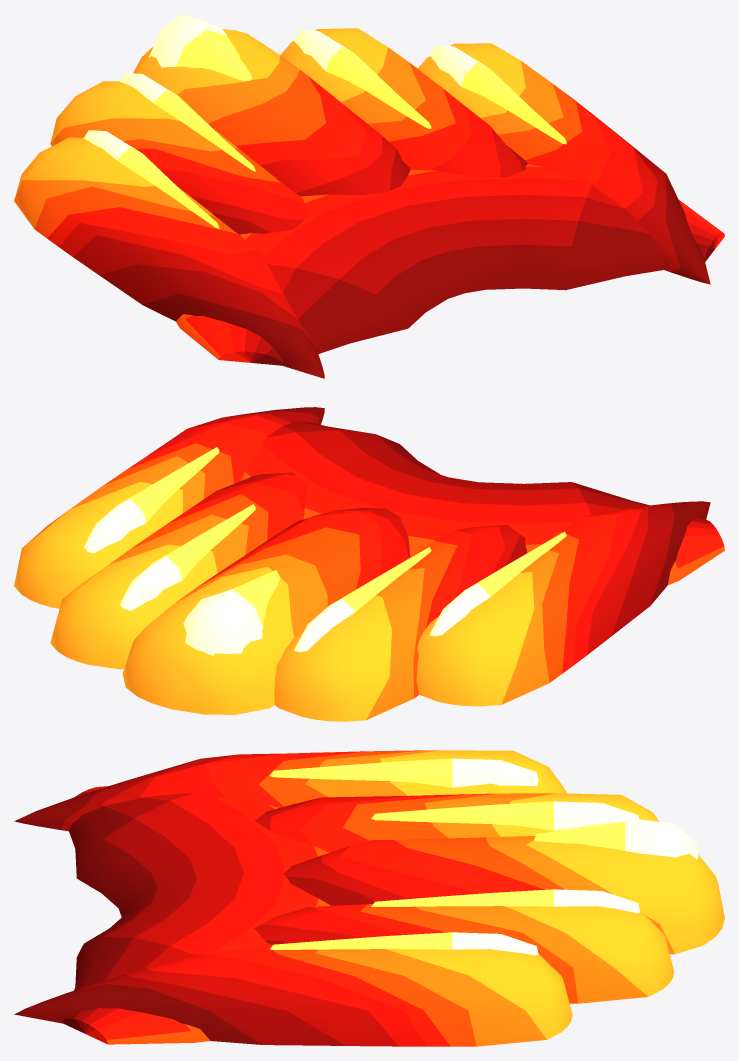
Rendered from shot_nort_crown.glb.
3 views of the same model, one above another, from view 1: azimuth 30°, elevation 25°; view 2: azimuth 150°, elevation 25°; view 3: azimuth 270°, elevation 25° (orthographic). The views are drawn at different scales.
Visible parts, largest first — view 1: shot_nort_crown_web, shot_nort_crown_bolt3, shot_nort_crown_bolt0, shot_nort_crown_bolt4, shot_nort_crown_bolt1, shot_nort_crown_bolt2, shot_nort_crown_core0, shot_nort_crown_core4, shot_nort_crown_core2, shot_nort_crown_core3, shot_nort_crown_core1; view 2: shot_nort_crown_bolt3, shot_nort_crown_bolt0, shot_nort_crown_web, shot_nort_crown_bolt1, shot_nort_crown_bolt2, shot_nort_crown_bolt4, shot_nort_crown_core0, shot_nort_crown_core2, shot_nort_crown_core4, shot_nort_crown_core3, shot_nort_crown_core1; view 3: shot_nort_crown_bolt4, shot_nort_crown_web, shot_nort_crown_bolt0, shot_nort_crown_bolt2, shot_nort_crown_bolt3, shot_nort_crown_bolt1, shot_nort_crown_core3, shot_nort_crown_core1, shot_nort_crown_core0, shot_nort_crown_core4, shot_nort_crown_core2.
Part boxes in pixels (x1,y1,x2,y2): shot_nort_crown_web: (176, 164, 724, 365); shot_nort_crown_bolt3: (14, 137, 324, 378); shot_nort_crown_bolt0: (133, 29, 410, 196); shot_nort_crown_bolt4: (418, 43, 710, 284); shot_nort_crown_bolt1: (50, 81, 307, 234); shot_nort_crown_bolt2: (280, 28, 527, 177); shot_nort_crown_core0: (149, 14, 252, 81); shot_nort_crown_core4: (430, 45, 566, 144); shot_nort_crown_core2: (294, 30, 431, 128); shot_nort_crown_core3: (83, 130, 219, 228); shot_nort_crown_core1: (119, 73, 255, 171); shot_nort_crown_bolt3: (416, 501, 710, 706); shot_nort_crown_bolt0: (122, 508, 410, 714); shot_nort_crown_web: (240, 421, 724, 584); shot_nort_crown_bolt1: (274, 525, 527, 721); shot_nort_crown_bolt2: (50, 472, 307, 669); shot_nort_crown_bolt4: (14, 407, 324, 608); shot_nort_crown_core0: (183, 570, 280, 655); shot_nort_crown_core2: (119, 504, 255, 610); shot_nort_crown_core4: (83, 447, 219, 553); shot_nort_crown_core3: (429, 531, 566, 636); shot_nort_crown_core1: (294, 547, 431, 652); shot_nort_crown_bolt4: (14, 947, 572, 1046); shot_nort_crown_web: (63, 786, 330, 1044); shot_nort_crown_bolt0: (283, 836, 724, 954); shot_nort_crown_bolt2: (254, 904, 674, 1003); shot_nort_crown_bolt3: (14, 750, 566, 831); shot_nort_crown_bolt1: (254, 793, 658, 852); shot_nort_crown_core3: (269, 758, 538, 787); shot_nort_crown_core1: (371, 801, 639, 830); shot_nort_crown_core0: (534, 819, 698, 859); shot_nort_crown_core4: (270, 932, 538, 955); shot_nort_crown_core2: (371, 889, 640, 913).
Size of the model in its own units: 12 by 1.99 by 14.
